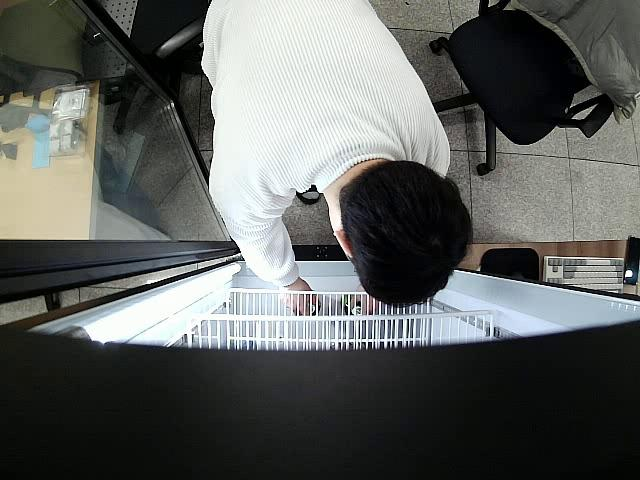00_hand: (281, 277, 321, 316)
